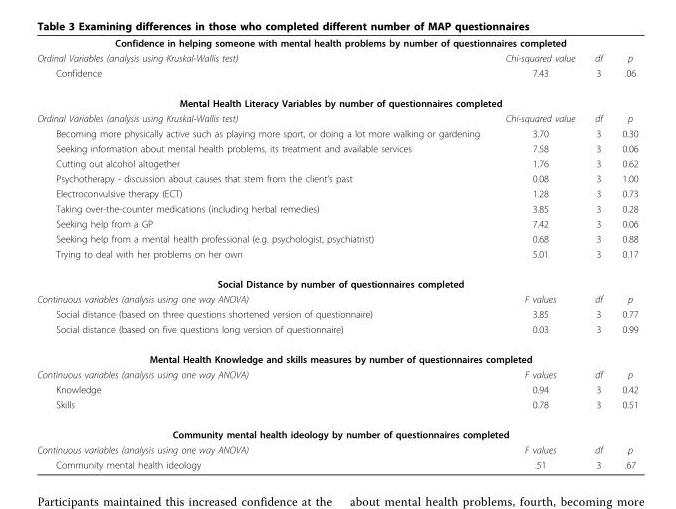table: (36, 36, 637, 470)
table column: (36, 36, 492, 470), (492, 36, 584, 470), (584, 36, 611, 470), (611, 36, 637, 470)
table projected row header: (36, 87, 637, 110), (36, 268, 637, 291), (36, 343, 637, 366), (36, 419, 637, 441), (36, 36, 637, 50)
table row: (36, 87, 637, 110), (36, 268, 637, 291), (36, 343, 637, 366), (36, 396, 637, 419), (36, 65, 637, 87), (36, 246, 637, 268), (36, 321, 637, 343), (36, 419, 637, 441), (36, 230, 637, 246), (36, 50, 637, 65), (36, 110, 637, 125), (36, 125, 637, 140), (36, 140, 637, 155), (36, 155, 637, 170), (36, 170, 637, 185), (36, 185, 637, 200), (36, 200, 637, 215), (36, 215, 637, 230), (36, 291, 637, 306), (36, 306, 637, 321), (36, 366, 637, 381), (36, 381, 637, 396), (36, 441, 637, 456), (36, 36, 637, 50), (36, 456, 637, 470)
